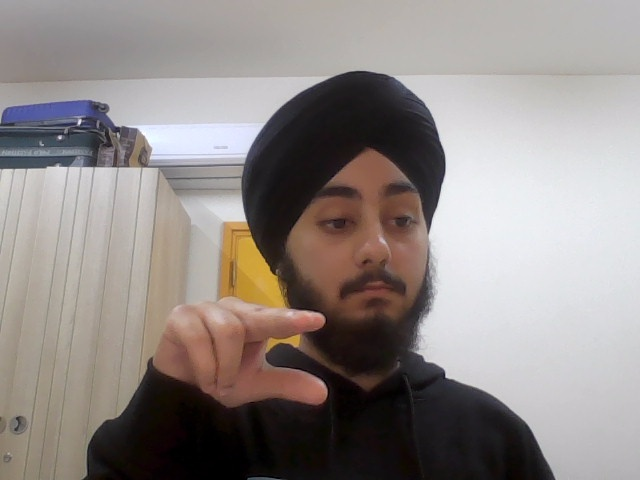No: (152, 291, 334, 412)
